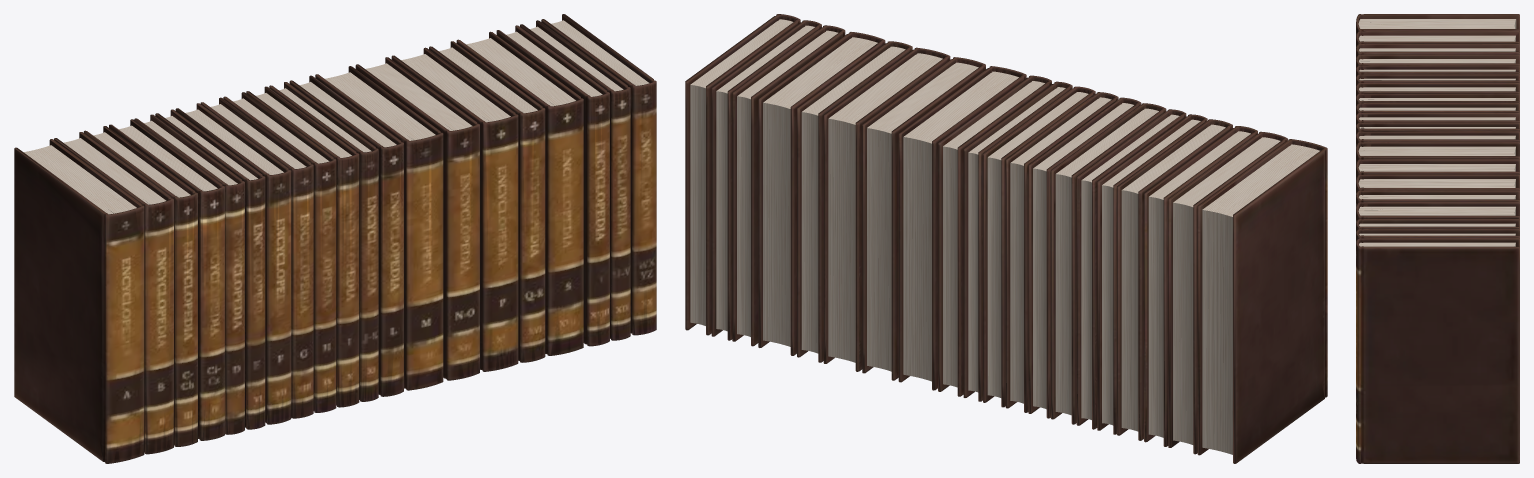
Rendered from book_encyclopedia_set_01.glb.
3 renders of one model, left to right at view 1: azimuth 30°, elevation 25°; view 2: azimuth 150°, elevation 25°; view 3: azimuth 270°, elevation 25°, orthographic. The views are drawn at different scales.
Parts seen in each view (by area): view 1: book_encyclopedia_set_01_book01; view 2: book_encyclopedia_set_01_book01; view 3: book_encyclopedia_set_01_book01.
Boxes of the visible parts, x1,y1,x2,y2 form: book_encyclopedia_set_01_book01: (14,14,656,463); book_encyclopedia_set_01_book01: (685,14,1327,463); book_encyclopedia_set_01_book01: (1356,14,1519,463).
Bounding box in the file's own units: 0.5513 × 0.2374 × 0.1631.
Materials: 2 (2 with a texture image).
